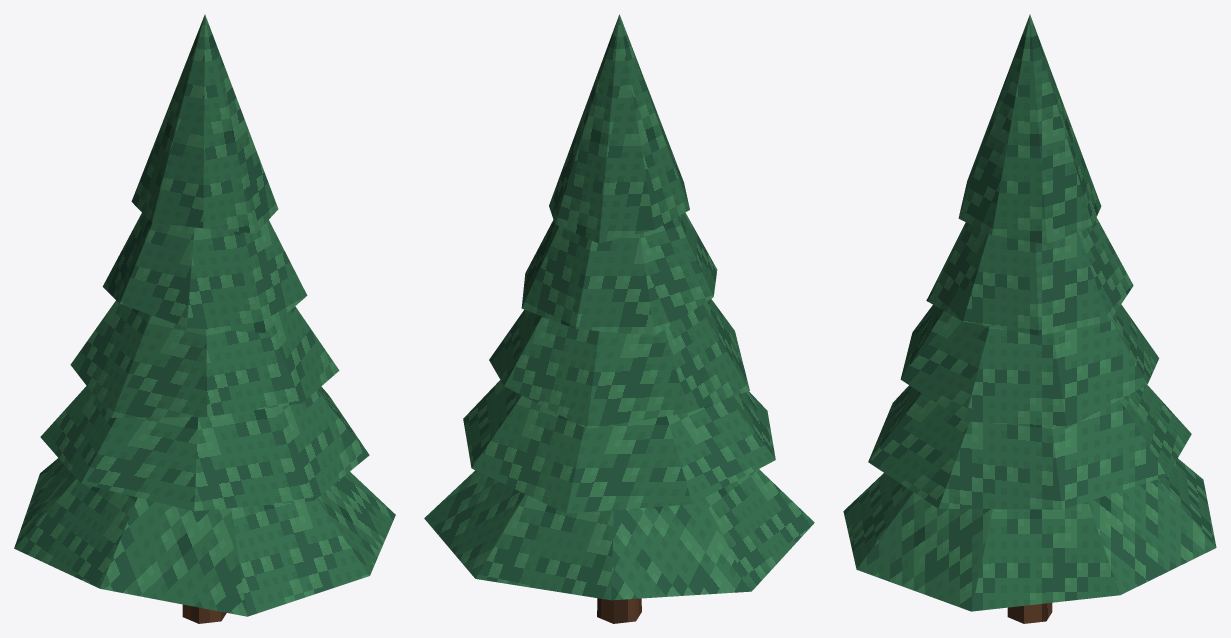
The model's file is pine1.glb.
The picture shows the model from 3 angles, left to right: view 1: azimuth 30°, elevation 25°; view 2: azimuth 150°, elevation 25°; view 3: azimuth 270°, elevation 25°; orthographic projection.
Parts seen in each view (by area): view 1: pine1; view 2: pine1; view 3: pine1.
Part boxes in pixels (left/top/right/bottom): pine1: left=14, top=14, right=395, bottom=623; pine1: left=424, top=14, right=814, bottom=623; pine1: left=843, top=14, right=1216, bottom=623.
Bounding box in the file's own units: 4.01 × 7.11 × 4.01.
Materials: 2 (2 with a texture image).
